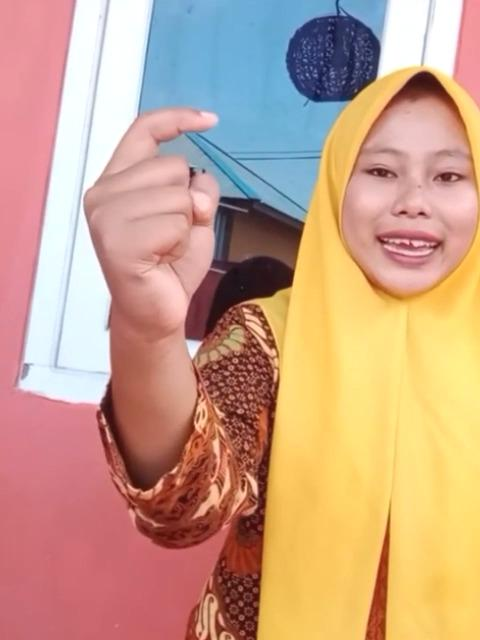X: (76, 102, 234, 334)
